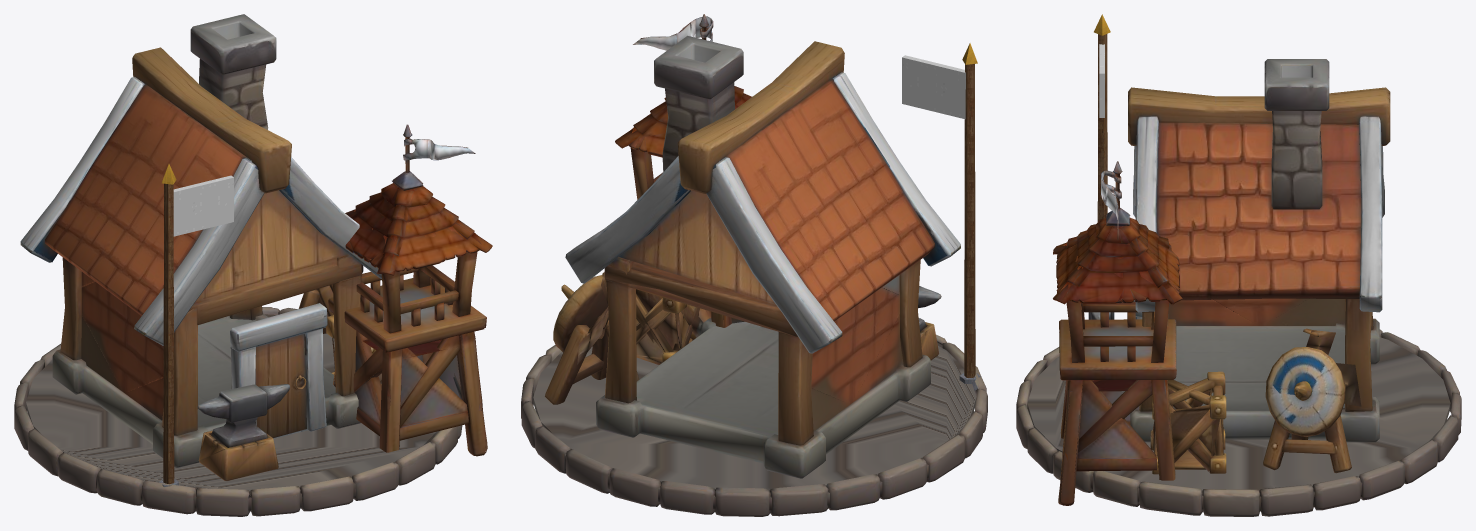
The model's file is outpost.glb.
The picture shows the model from 3 angles, left to right: view 1: azimuth 30°, elevation 25°; view 2: azimuth 150°, elevation 25°; view 3: azimuth 270°, elevation 25°; orthographic projection. The views are drawn at different scales.
Visible parts, largest first — view 1: outpost, addon_watch, outpost_floor, outpost_mast, spin_outpost; view 2: outpost, outpost_floor, addon_watch, outpost_mast, spin_outpost; view 3: outpost, addon_watch, outpost_floor, outpost_mast.
Part boxes in pixels (x1,y1,x2,y2): outpost: (14,14,462,516); addon_watch: (328,124,492,456); outpost_floor: (26,314,438,491); outpost_mast: (159,164,178,486); spin_outpost: (173,175,233,236); outpost: (521,35,987,516); outpost_floor: (533,346,976,491); addon_watch: (615,14,751,339); outpost_mast: (959,43,980,390); spin_outpost: (902,55,965,119); outpost: (1016,59,1461,516); addon_watch: (1053,161,1182,505); outpost_floor: (1027,337,1450,490); outpost_mast: (1094,14,1110,221).
Bounding box in the file's own units: 3.09 × 2.83 × 3.09.
Materials: 9 (9 with a texture image).
